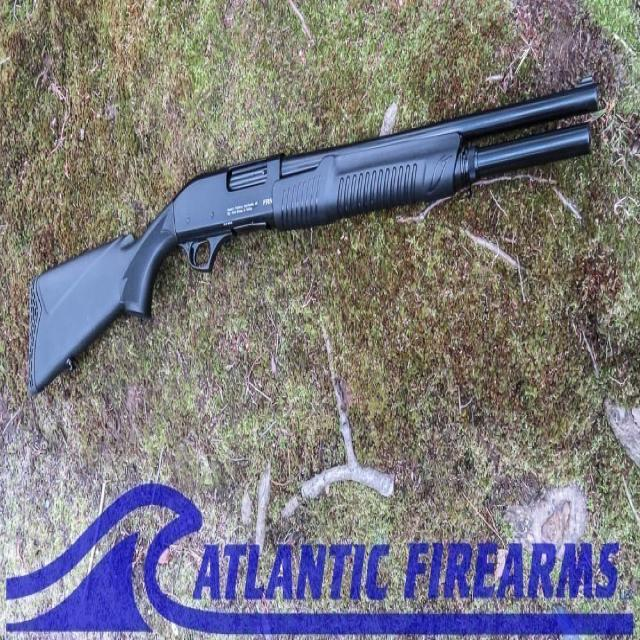ShotGun: (28, 83, 600, 396)
